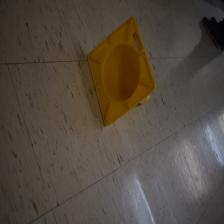cone: (86, 16, 156, 125)
